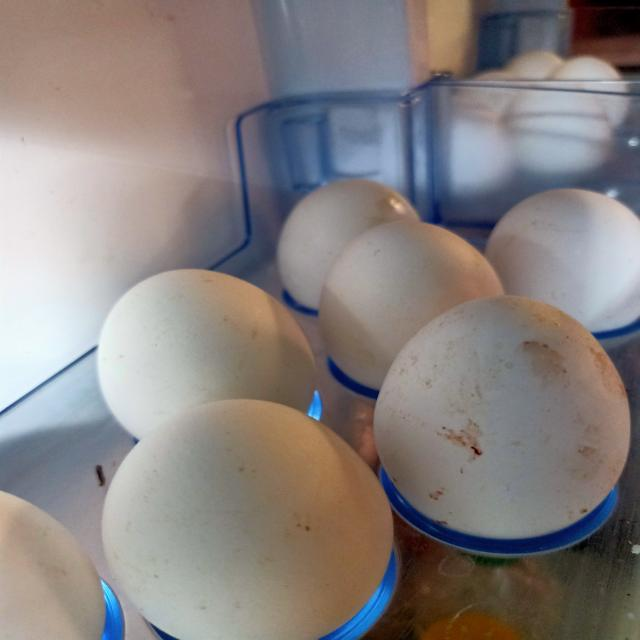Egg: (74, 384, 402, 640), (370, 292, 634, 560), (74, 253, 340, 434), (302, 210, 518, 398)
